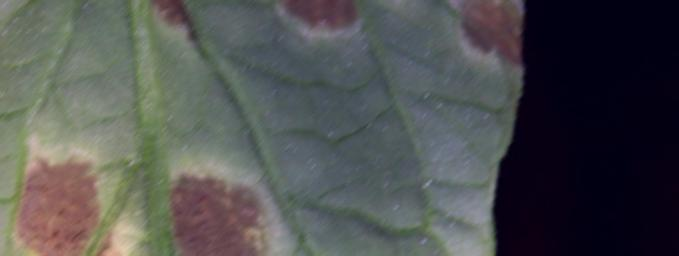Tomato mold leaf: (0, 0, 540, 256)
